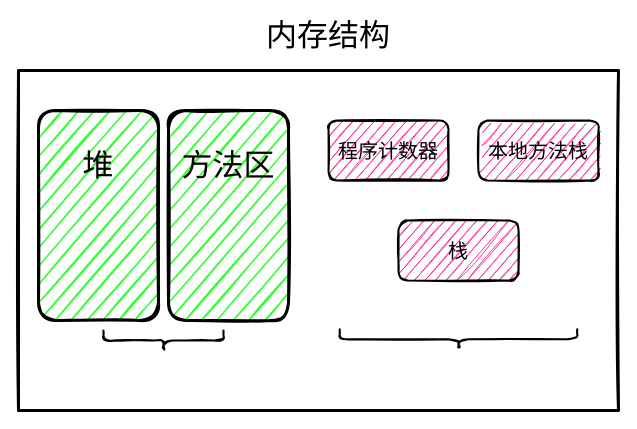
Image size: 637x429. Some labels were removed from this diagram. Here are the shapes that lost their labels. From the top down, the centre of each, then its label:
At point 163,340: "线程共享".
At point 458,339: "线程独有".
